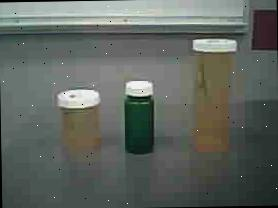Bottle A: (191, 34, 242, 157)
Bottle B: (55, 85, 104, 152)
Bottle C: (118, 77, 160, 162)
